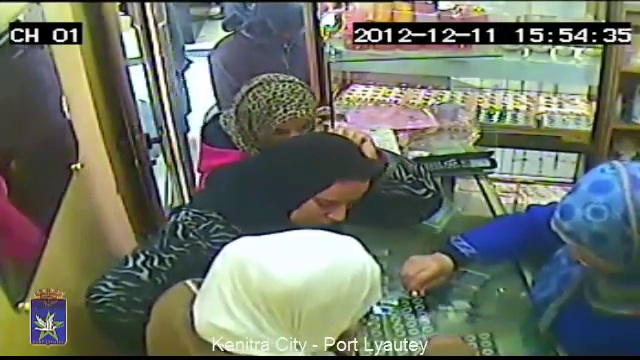face: (304, 177, 361, 226)
